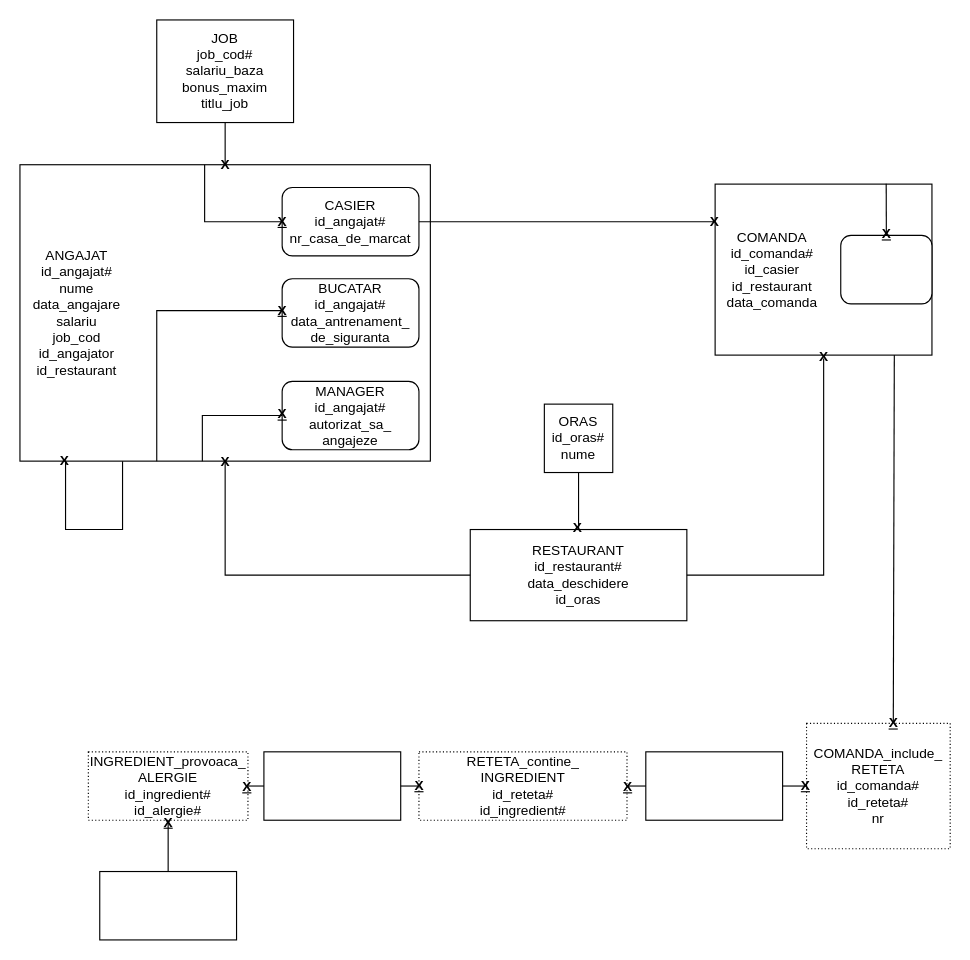
This 970x960 diagram has some shape labels left out. The centre of each missing label's shape, as x and y in pixels:
"ALERGIE id_alergie# nume" goes at (x=168, y=905).
"INGREDIENT id_ingredient# nume" goes at (x=332, y=785).
"LIVRARE id_comanda# adresa cost" goes at (x=886, y=269).
"RETETA id_reteta# nume pret" goes at (x=714, y=785).
